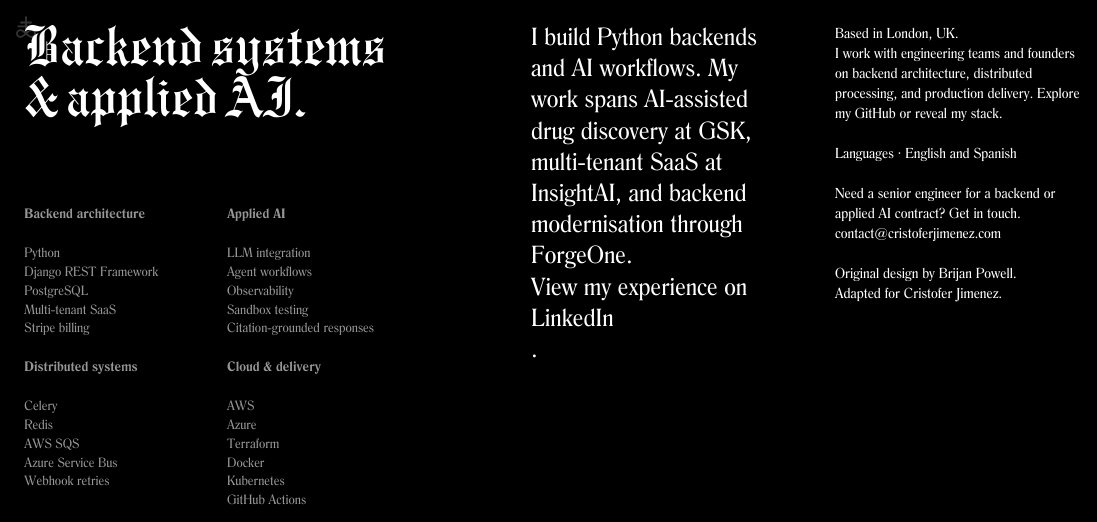
Test: portfolio interactions › reveals the editable stack and restores its collapsed state
Click the button "stack".
click(985, 114)  # box [971,104,999,124]
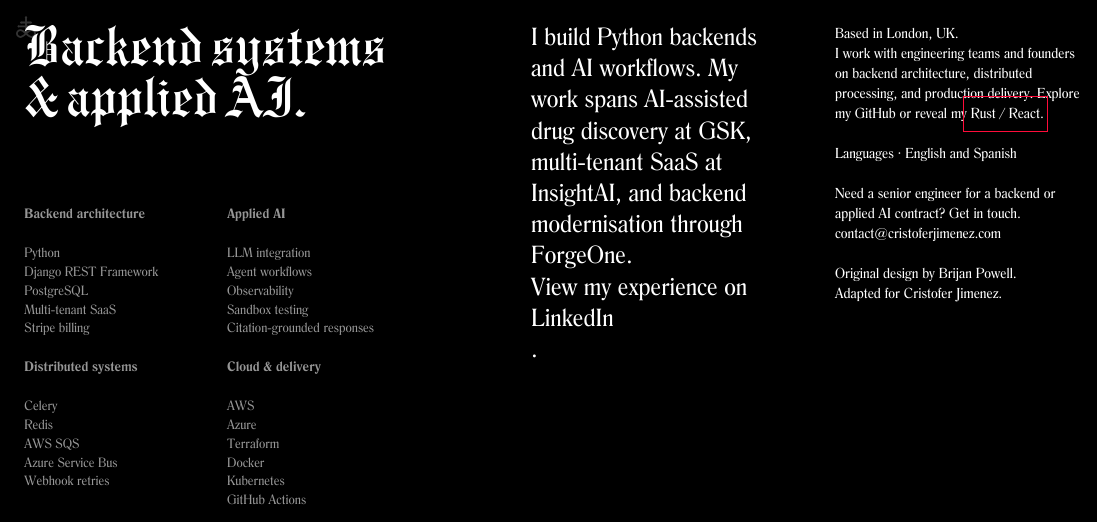
Now the button named "stack" reads "Rust / React"
Now the button named "stack" is expanded
Click the button named "stack".
click(1005, 114)  # box [971,104,1040,124]
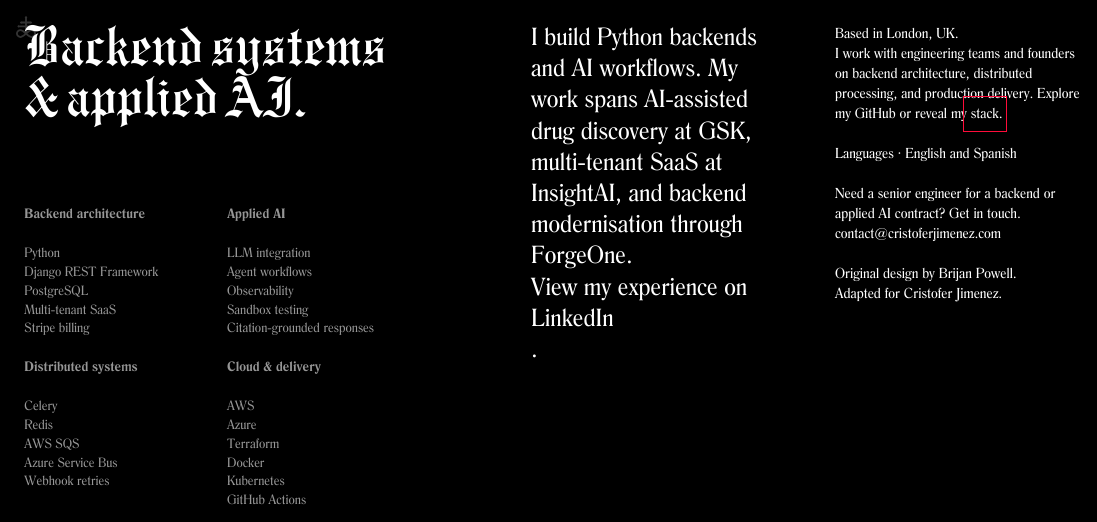
Now the button "stack" is shown, box [971,104,999,124]
Now the button "stack" is collapsed, box [971,104,999,124]
